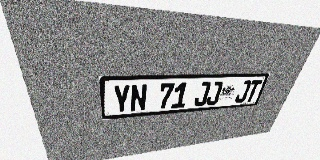1: (171, 82, 189, 109)
7: (157, 83, 175, 110)
J: (205, 81, 224, 106), (193, 82, 211, 107), (234, 80, 252, 103)
N: (130, 84, 147, 112)
T: (244, 80, 262, 102)
Y: (113, 84, 130, 114)
